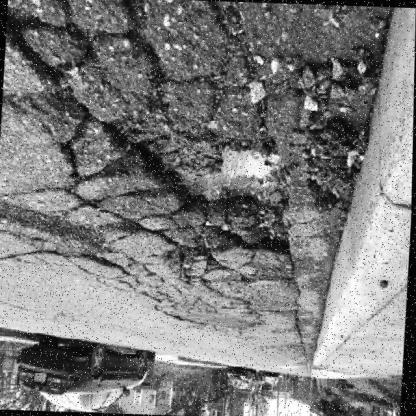pothole: (107, 108, 299, 260)
